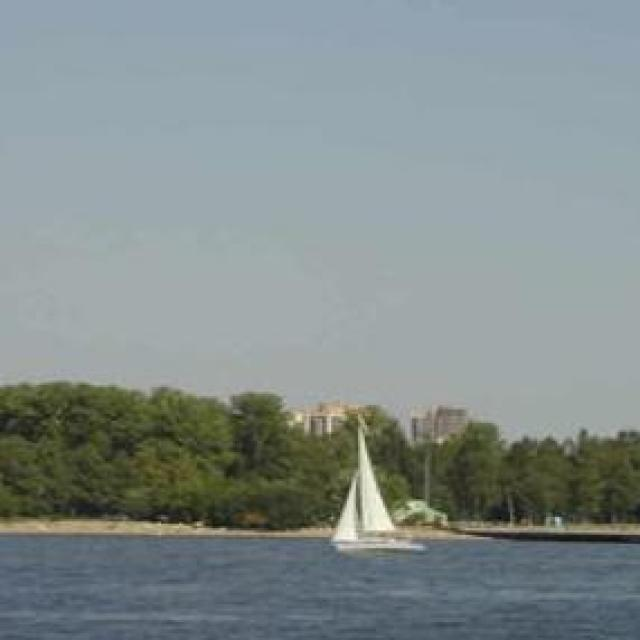sailboat: (328, 417, 428, 556)
